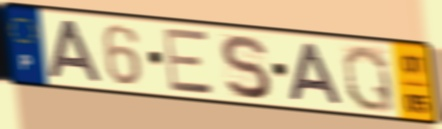6: (100, 22, 145, 88)
A: (45, 17, 104, 84), (287, 40, 346, 107)
E: (161, 27, 217, 96)
Q: (340, 42, 398, 115)
S: (217, 32, 274, 102)
